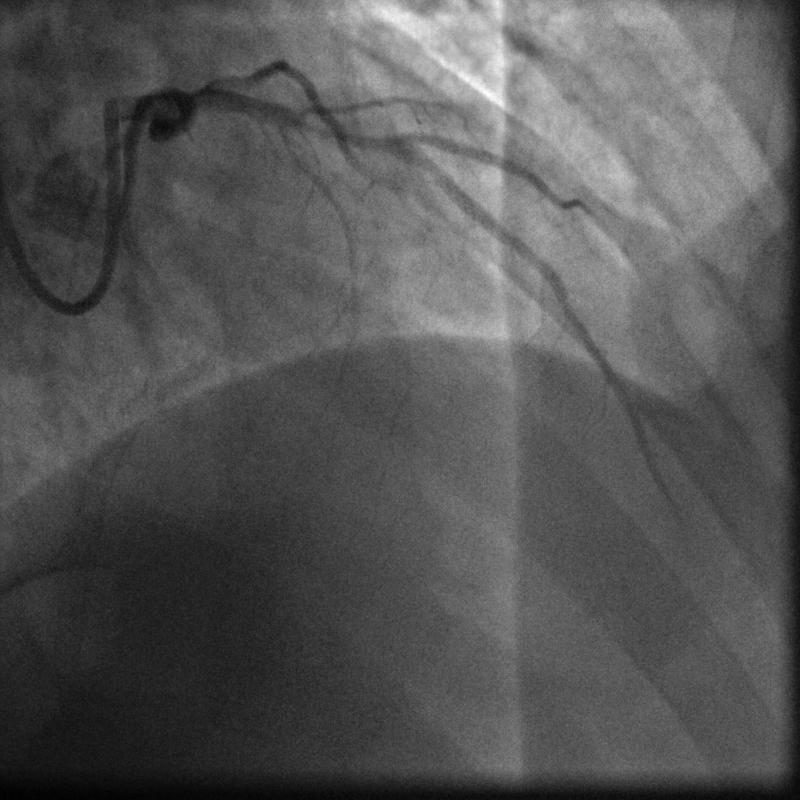Stenosis: (298, 113, 397, 160)
